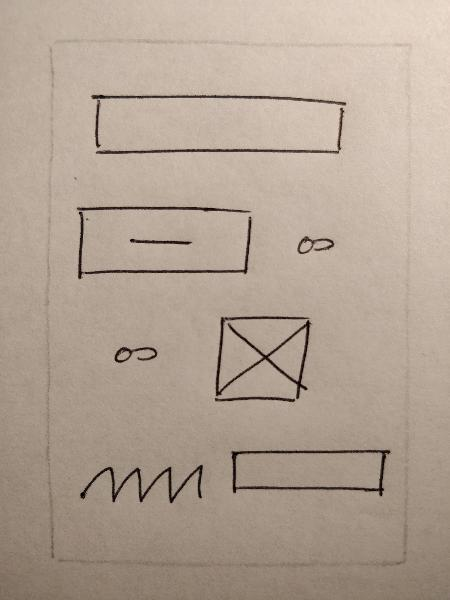button: (68, 199, 257, 281)
image: (204, 306, 311, 406)
switch: (106, 332, 167, 373), (286, 225, 341, 264)
text: (75, 454, 211, 510)
text_input: (84, 86, 353, 165), (226, 444, 397, 502)
